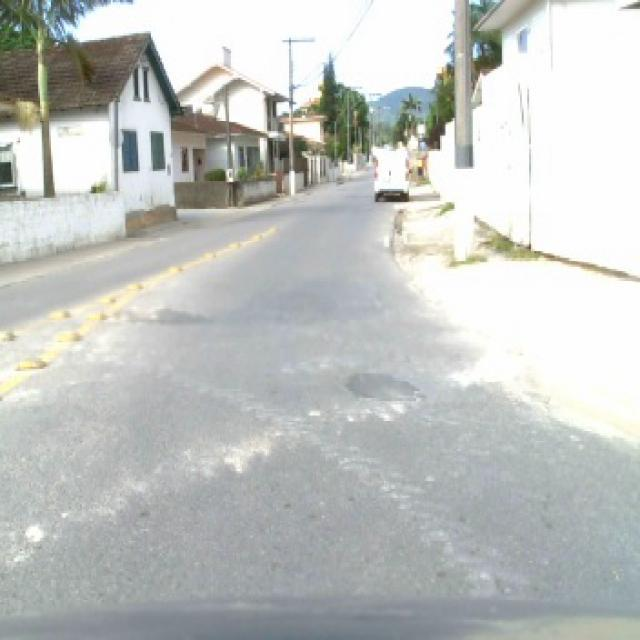Poth-hole: (449, 348, 544, 414), (220, 424, 282, 474), (104, 304, 214, 324), (360, 400, 406, 420), (24, 518, 46, 544), (15, 353, 48, 369), (53, 327, 82, 340), (84, 306, 105, 321), (48, 304, 70, 318), (96, 291, 116, 302), (305, 404, 320, 416), (0, 327, 15, 338), (164, 262, 182, 271), (125, 280, 142, 289), (380, 231, 389, 245), (202, 248, 214, 256), (227, 240, 240, 247), (251, 231, 260, 238)
